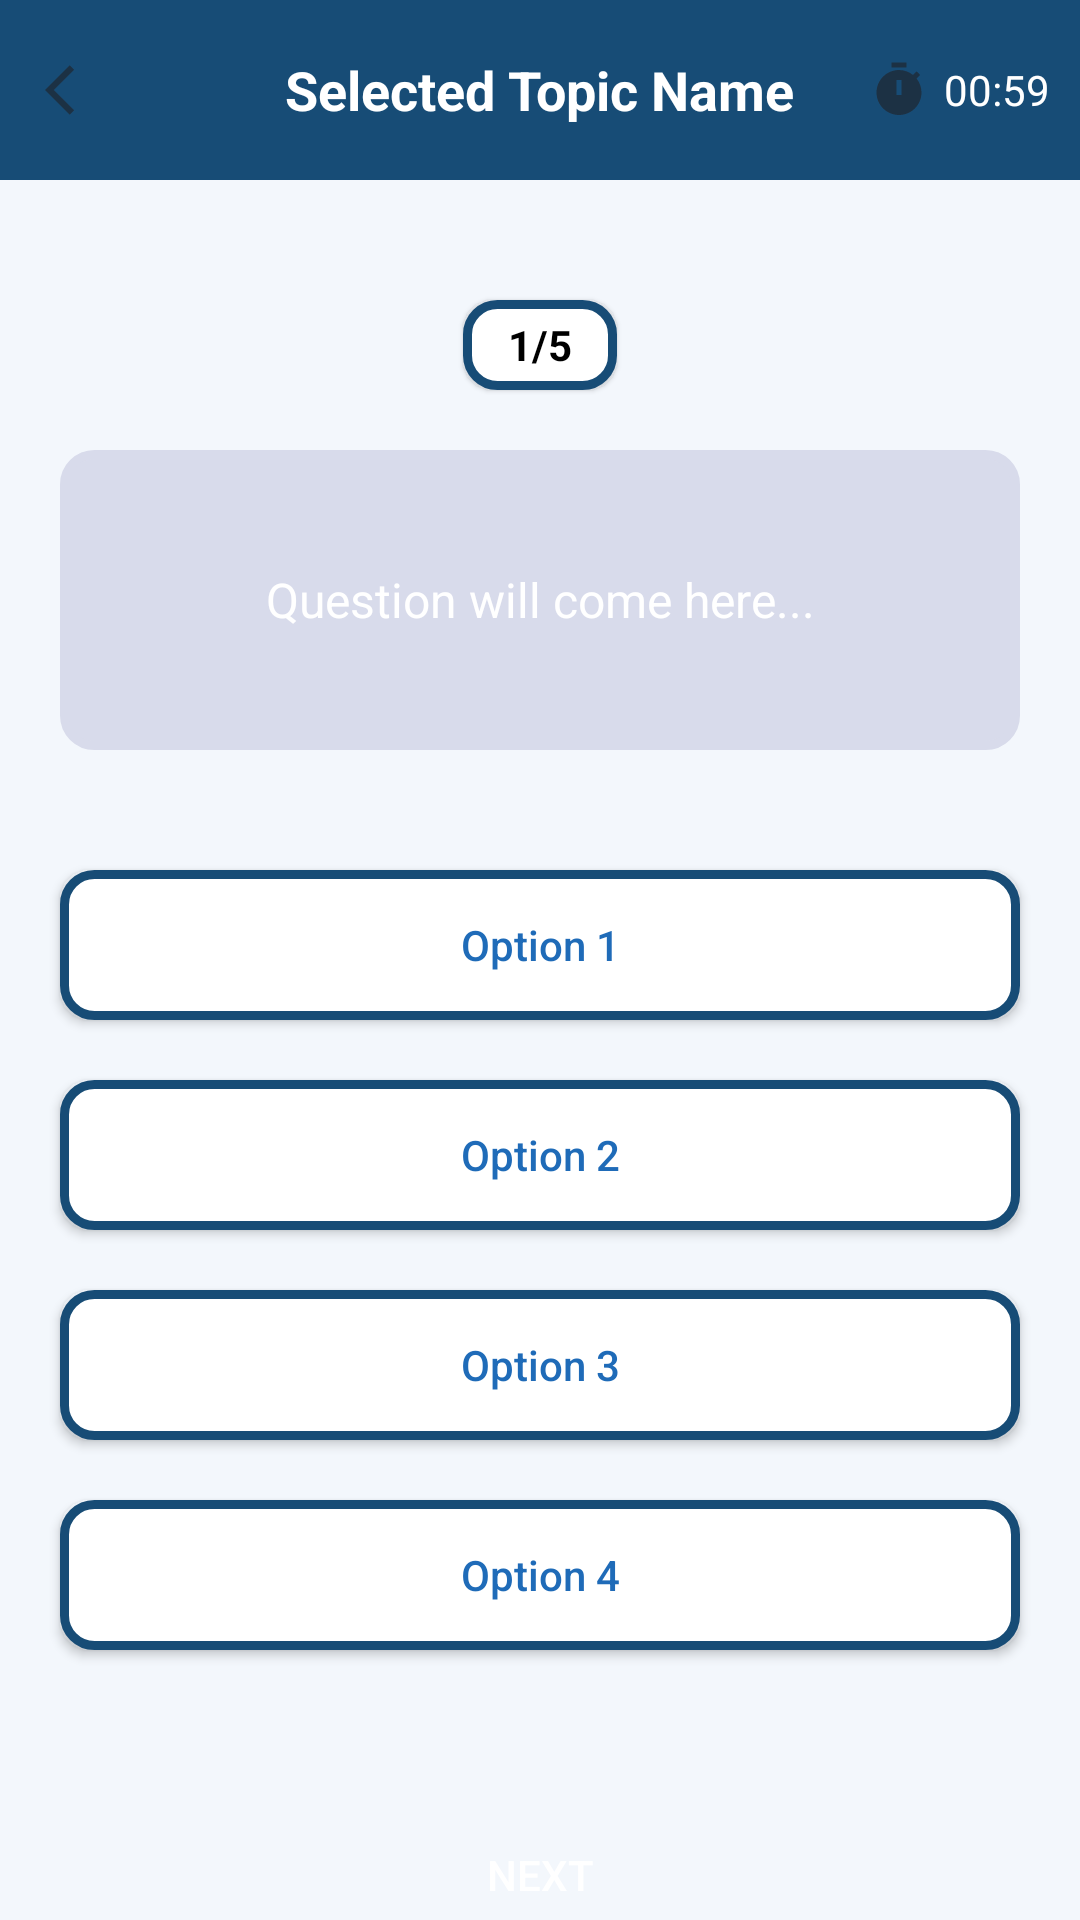

Screen size 1080px×1920px. Icon name, then its center in pixels as (x=x, y=y):
back: (x=59, y=90)
timer: (x=899, y=88)
